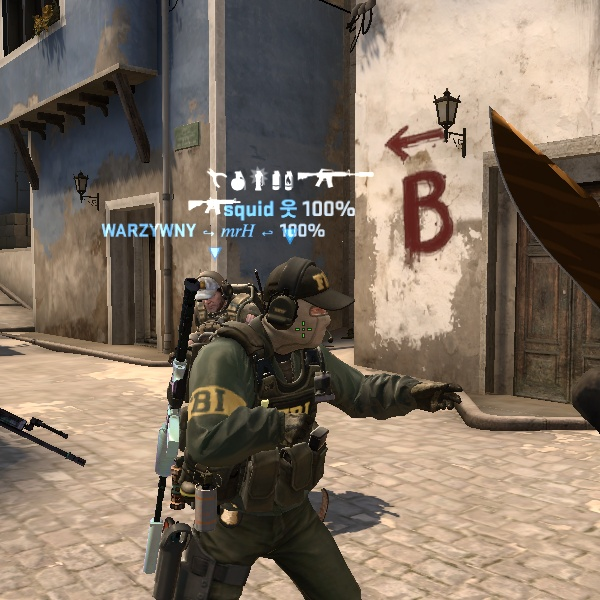ct_body: (145, 261, 395, 592)
ct_head: (243, 252, 358, 368)
